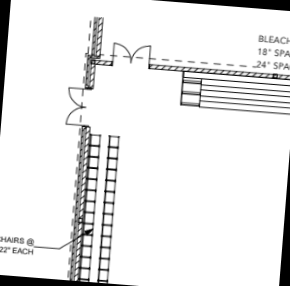double door: (63, 85, 90, 129), (110, 40, 154, 67)
wall: (72, 123, 95, 282), (145, 62, 290, 83), (93, 15, 107, 61)
